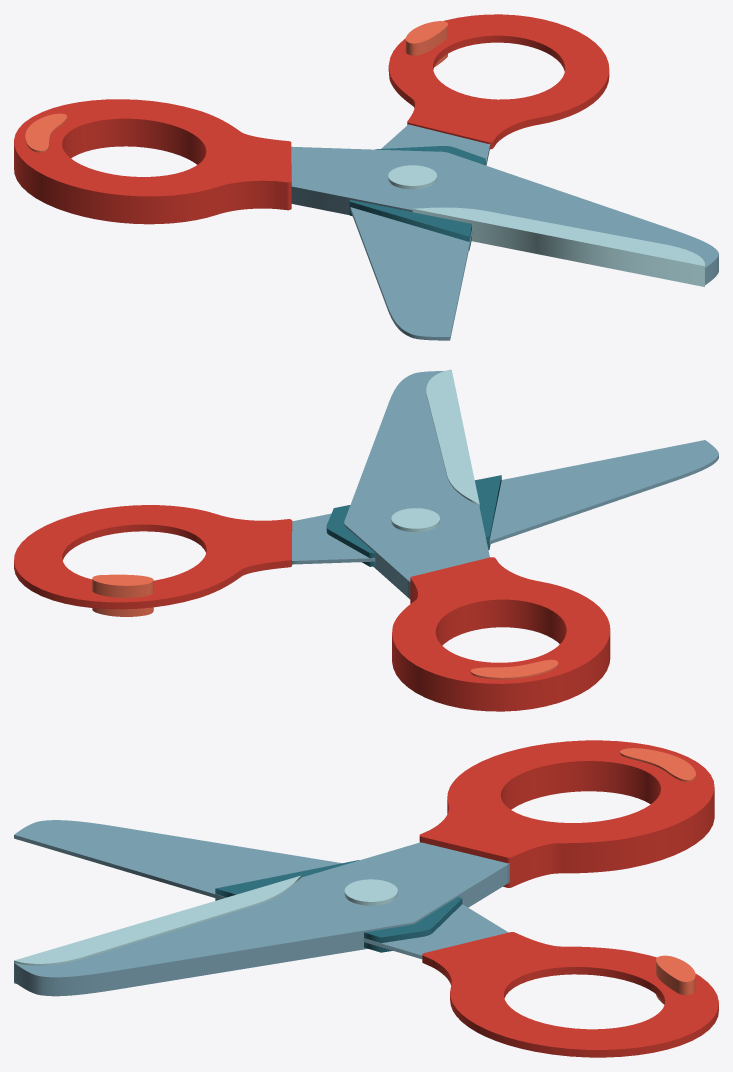
The model's file is emoji_u2702.glb.
The picture shows the model from 3 angles, top to bottom: view 1: azimuth 30°, elevation 25°; view 2: azimuth 150°, elevation 25°; view 3: azimuth 270°, elevation 25°; orthographic projection. The views are drawn at different scales.
Parts seen in each view (by area): view 1: emoji_u2702; view 2: emoji_u2702; view 3: emoji_u2702.
Boxes of the visible parts, x1=… form: emoji_u2702: x1=14, y1=14, x2=718, y2=340; emoji_u2702: x1=14, y1=369, x2=718, y2=711; emoji_u2702: x1=14, y1=740, x2=718, y2=1057.
Size of the model in its own units: 0.0338 by 0.0018 by 0.0338.
